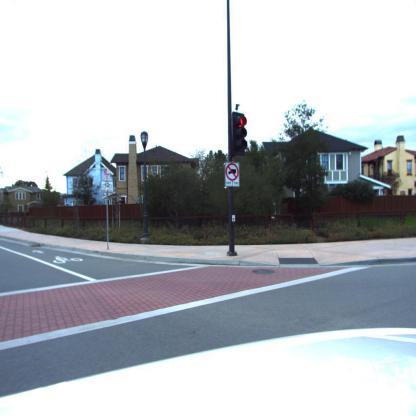traffic light: (232, 112, 249, 156)
